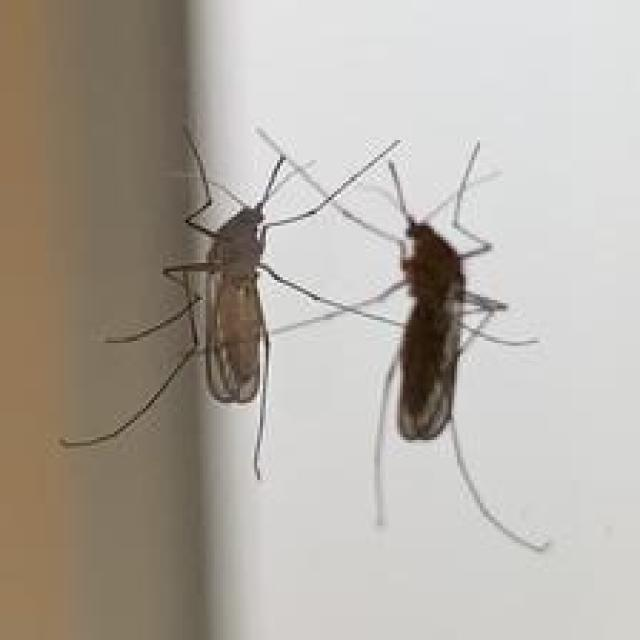Culex: (58, 120, 553, 554)
